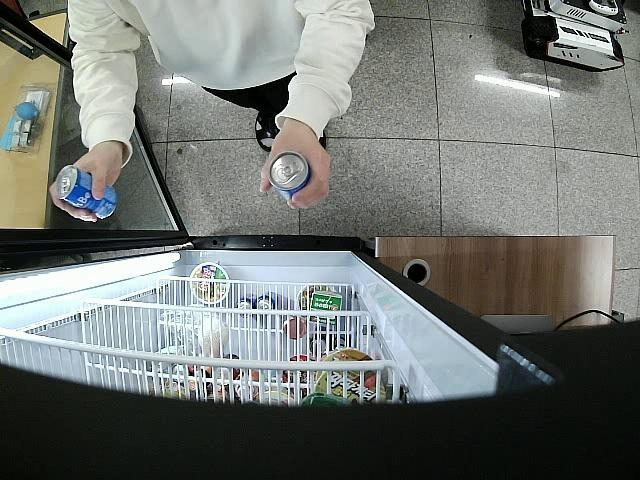15_letsbe: (56, 164, 116, 219), (267, 151, 311, 200)
